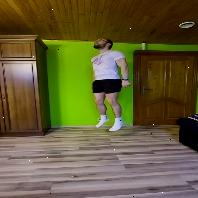high_jumps: (79, 28, 137, 138)
